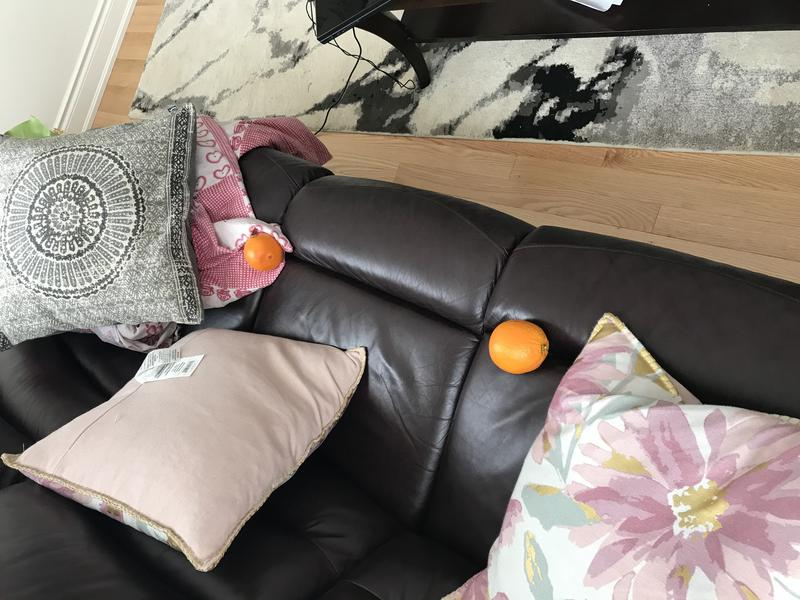orange: (484, 311, 556, 381), (242, 229, 288, 274)
